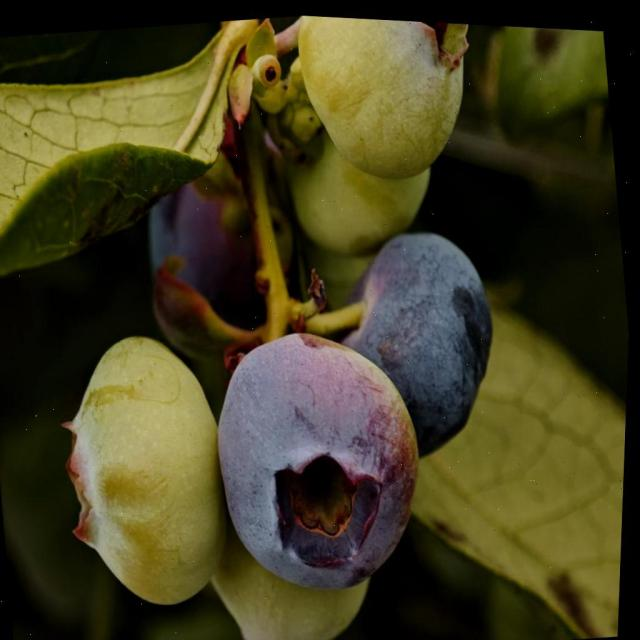Semi-RipeBlueBerry: (207, 312, 442, 602)
UnripeBlueBerry: (57, 326, 242, 618), (293, 12, 485, 181)
